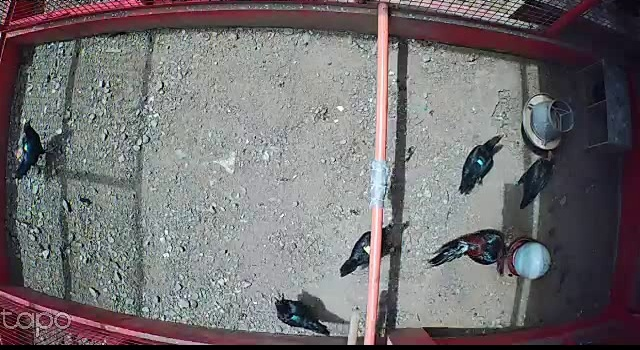Chicken: (341, 220, 398, 281), (14, 118, 58, 184), (458, 135, 504, 196), (515, 150, 559, 211), (274, 295, 337, 337)
Rooster: (425, 229, 515, 281)
Saddle_Color_Blue: (476, 159, 484, 167)
Saddle_Color_Yellow: (361, 242, 373, 256)
Saddle_Color_YellowGreen: (24, 143, 30, 153)
